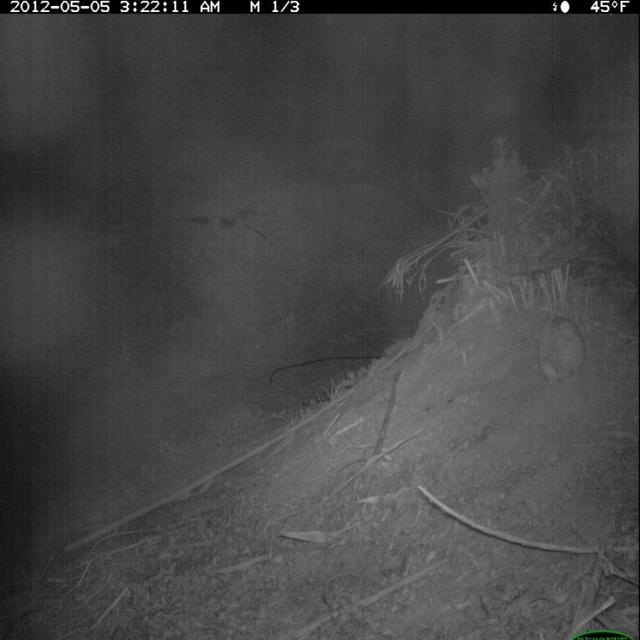rabbit: (521, 301, 596, 393)
